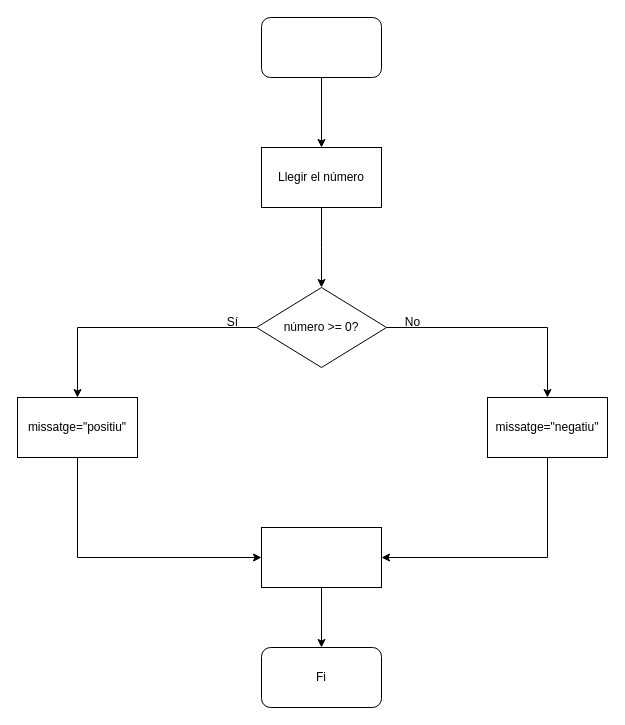
Some shapes in this 625 by 725 pixel diagram are drawn without their labels. Here are the shapes that lost their labels. From the top down, the box of each, then its label:
(260, 16, 382, 78): Inici
(260, 526, 382, 588): Mostrar missatge
